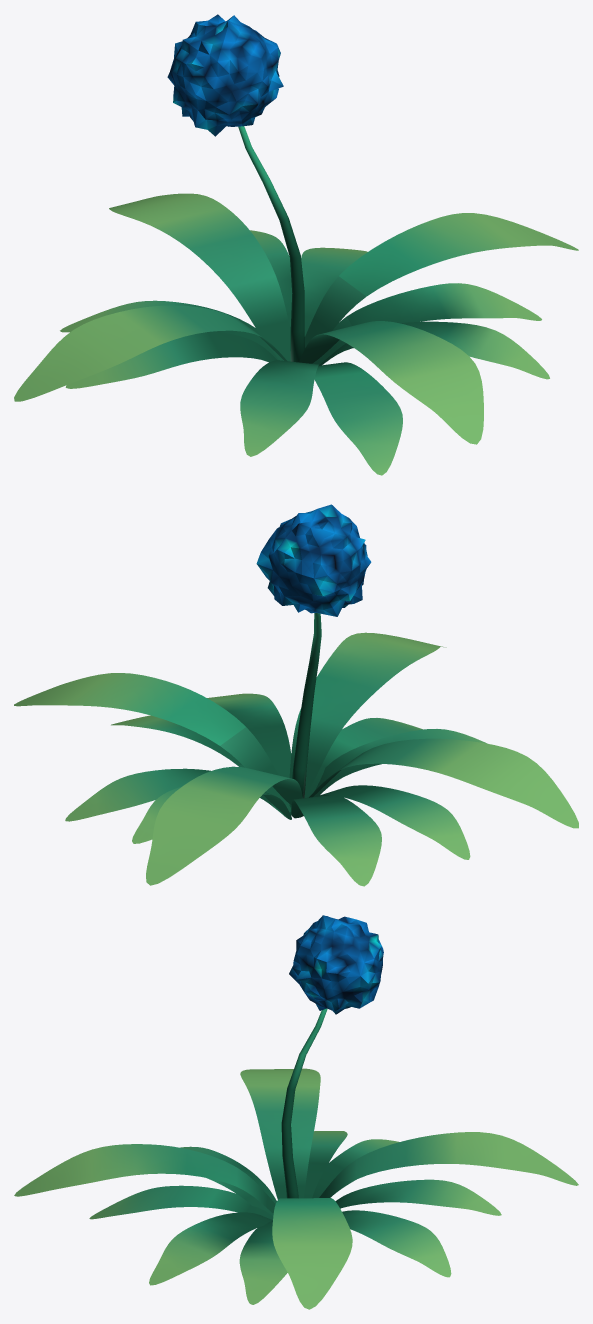
File: huge-flower.fbx
3 renders of one model, top to bottom at view 1: azimuth 30°, elevation 25°; view 2: azimuth 150°, elevation 25°; view 3: azimuth 270°, elevation 25°, orthographic. The views are drawn at different scales.
Parts seen in each view (by area): view 1: Plane.001; view 2: Plane.001; view 3: Plane.001.
Boxes of the visible parts, x1,y1,x2,y2 form: Plane.001: [14, 14, 578, 475]; Plane.001: [14, 504, 578, 886]; Plane.001: [14, 915, 578, 1309].
Bounding box in the file's own units: 46.25 × 27.11 × 46.25.
